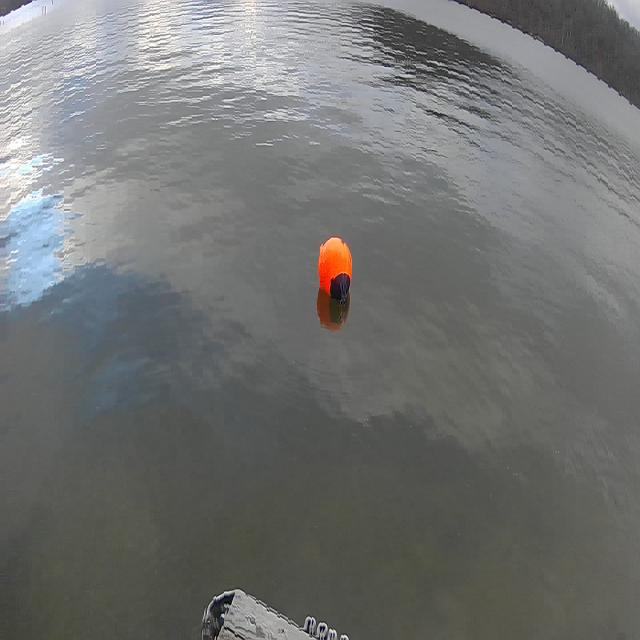Buoy: (315, 227, 357, 314)
